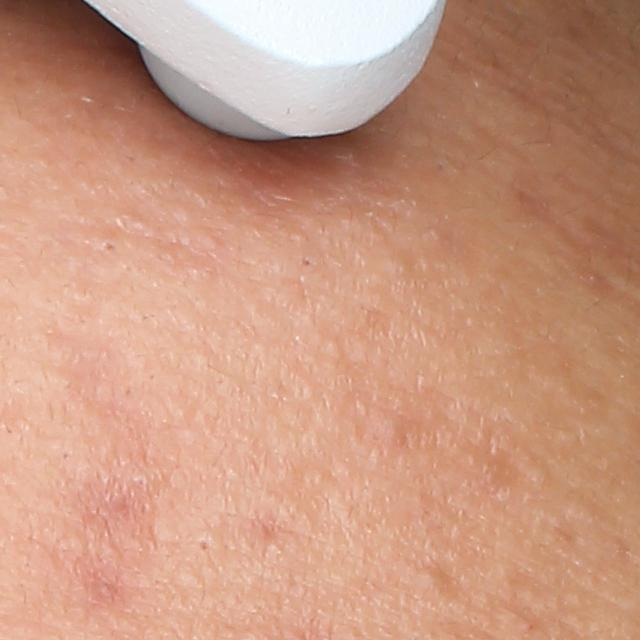comedo: (410, 568, 453, 599), (521, 455, 556, 487), (193, 529, 224, 556), (295, 250, 325, 276), (91, 235, 122, 259)
